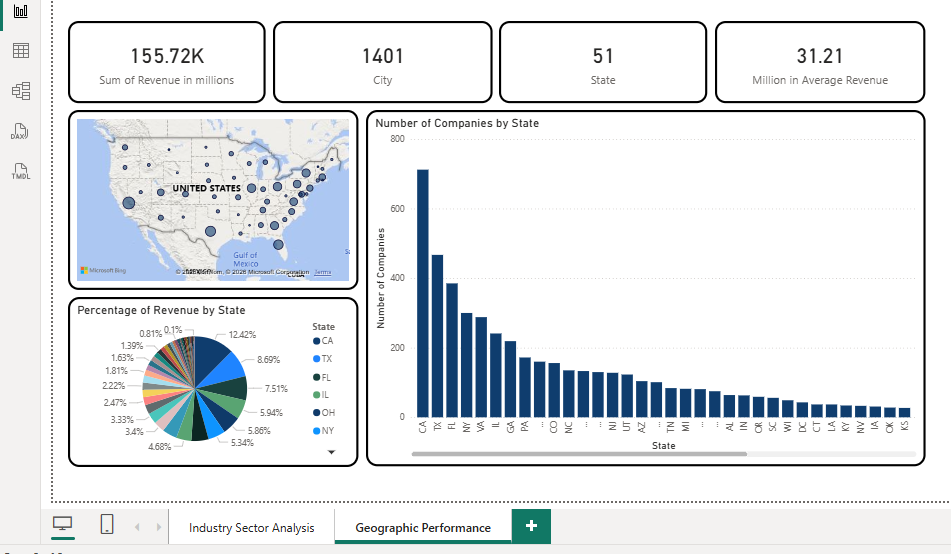

The dashboard page shown, as its layout file describes it:
{"tool":"powerbi","page":{"name":"Geographic Performance","canvas":[1280,720],"ordinal":1},"visuals":[{"type":"card","fields":{"Values":["Sum(INC 5000 Companies 2019 sql ready.Revenue in millions)"]},"box":[21.4,42.9,278.6,115.7],"z":0},{"type":"card","fields":{"Values":["Count(INC 5000 Companies 2019 sql ready.City)"]},"box":[310,42.9,310,115.7],"z":1000},{"type":"card","fields":{"Values":["Count(INC 5000 Companies 2019 sql ready.State)"]},"box":[630,42.9,294.3,115.7],"z":2000},{"type":"card","fields":{"Values":["Avg(INC 5000 Companies 2019 sql ready.Revenue in millions)"]},"box":[934.3,42.9,297.1,115.7],"z":3000},{"type":"map","fields":{"Category":["INC 5000 Companies 2019 sql ready.State"],"Size":["Sum(INC 5000 Companies 2019 sql ready.Revenue in millions)"]},"box":[21.4,168.6,410,254.3],"z":4000},{"type":"clusteredColumnChart","fields":{"Category":["INC 5000 Companies 2019 sql ready.State"],"Y":["CountNonNull(INC 5000 Companies 2019 sql ready.Name)"]},"box":[441.4,168.6,790,502.9],"z":5000},{"type":"pieChart","fields":{"Category":["INC 5000 Companies 2019 sql ready.State"],"Y":["Sum(INC 5000 Companies 2019 sql ready.Revenue in millions)"]},"box":[21.4,431.4,410,240],"z":6000}]}

Visuals, with their boxes in screenshot pixels (x1, y1, x2, y2):
card - Sum(INC 5000 Companies 2019 sql ready.Revenue in millions): [x1=67, y1=20, x2=264, y2=102]
card - Count(INC 5000 Companies 2019 sql ready.City): [x1=271, y1=20, x2=490, y2=102]
card - Count(INC 5000 Companies 2019 sql ready.State): [x1=497, y1=20, x2=705, y2=102]
card - Avg(INC 5000 Companies 2019 sql ready.Revenue in millions): [x1=712, y1=20, x2=922, y2=102]
map - INC 5000 Companies 2019 sql ready.State x Sum(INC 5000 Companies 2019 sql ready.Revenue in millions): [x1=67, y1=109, x2=357, y2=289]
clusteredColumnChart - INC 5000 Companies 2019 sql ready.State x CountNonNull(INC 5000 Companies 2019 sql ready.Name): [x1=364, y1=109, x2=922, y2=465]
pieChart - INC 5000 Companies 2019 sql ready.State x Sum(INC 5000 Companies 2019 sql ready.Revenue in millions): [x1=67, y1=295, x2=357, y2=465]
